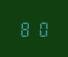eight: (19, 20, 33, 37)
zero: (34, 20, 48, 37)
